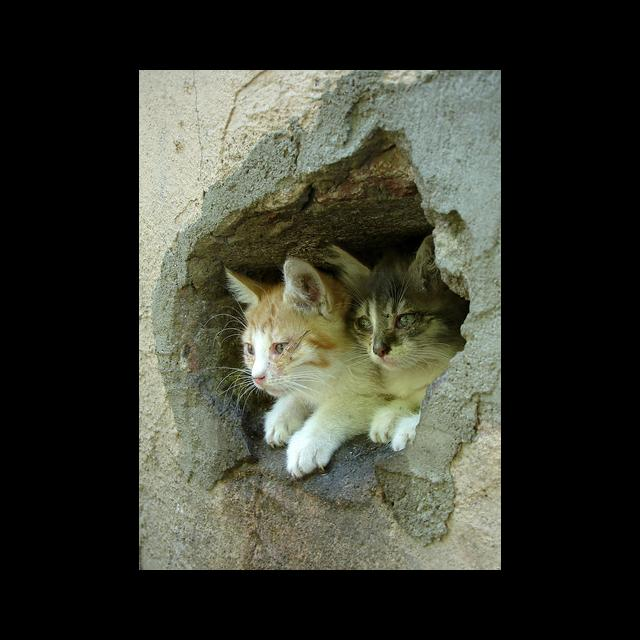animals: (223, 257, 350, 476), (328, 236, 438, 452)
